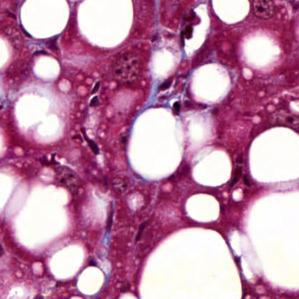steatosis: (123, 101, 189, 180), (185, 188, 227, 226)
